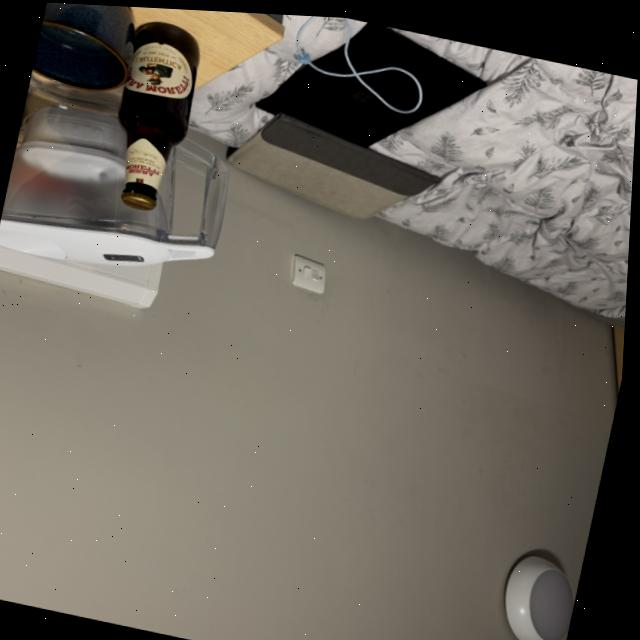beer: (95, 12, 211, 218)
